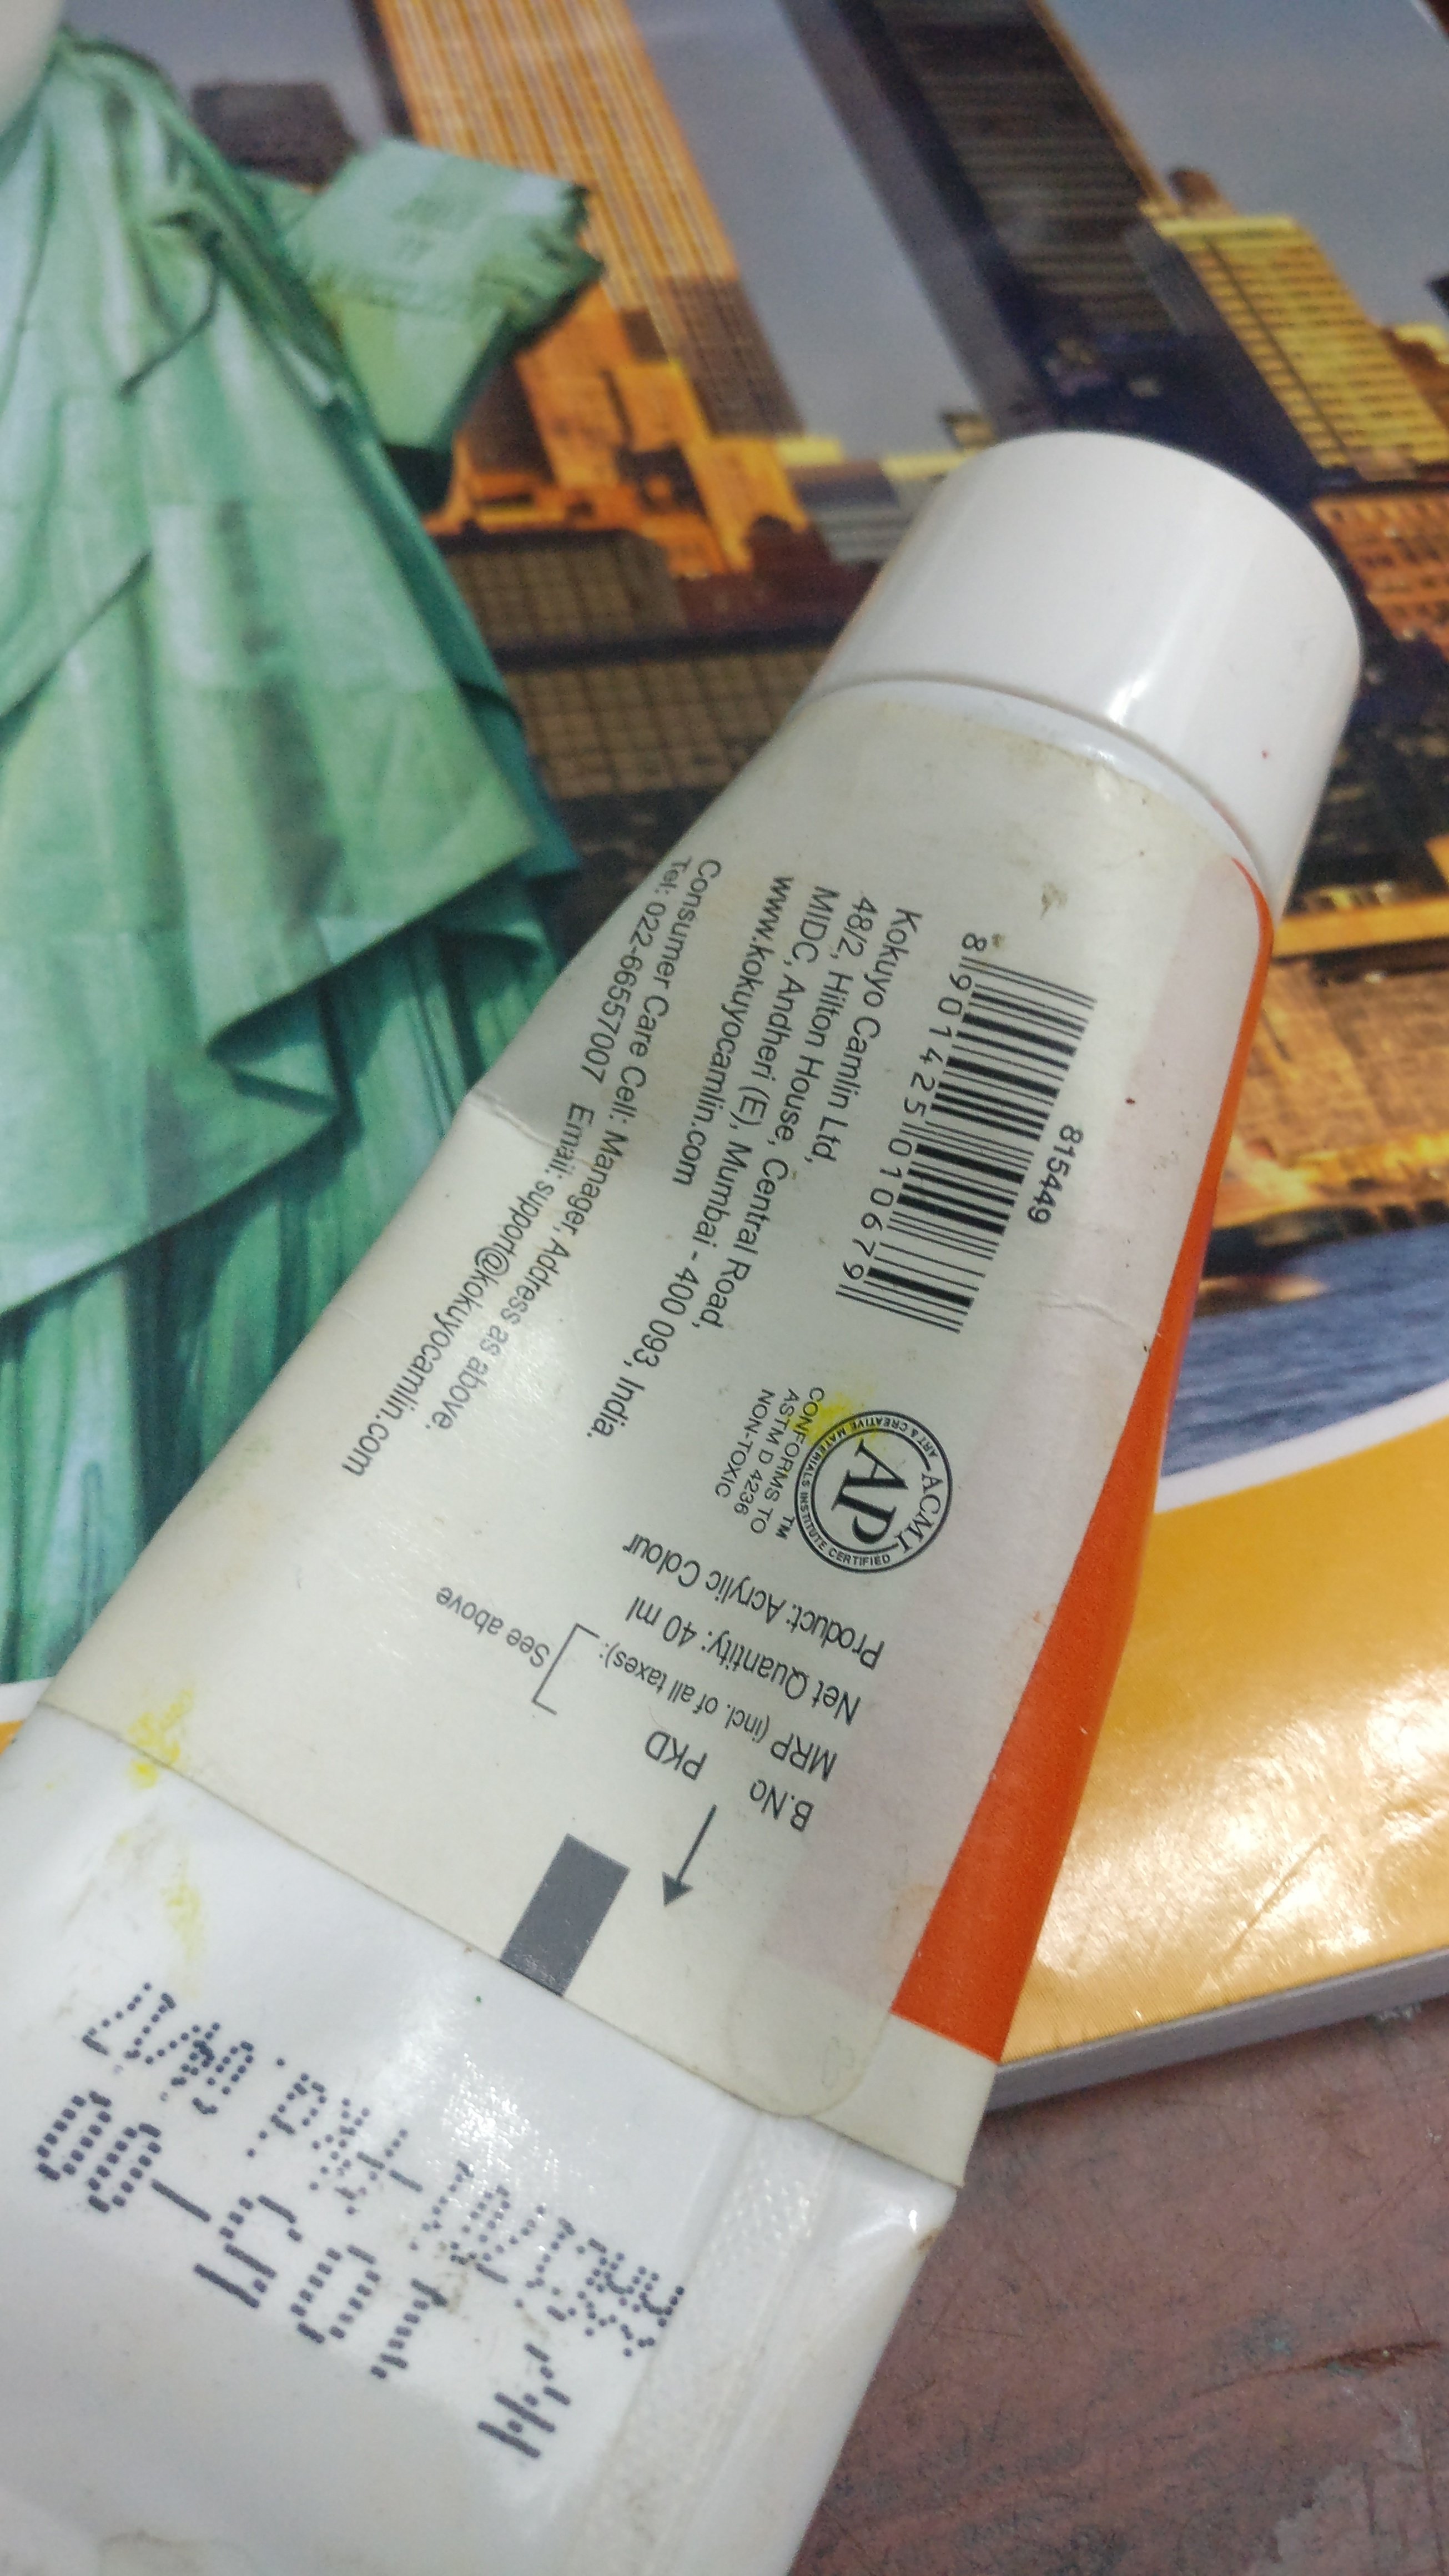barcode: (839, 922, 1095, 1362)
